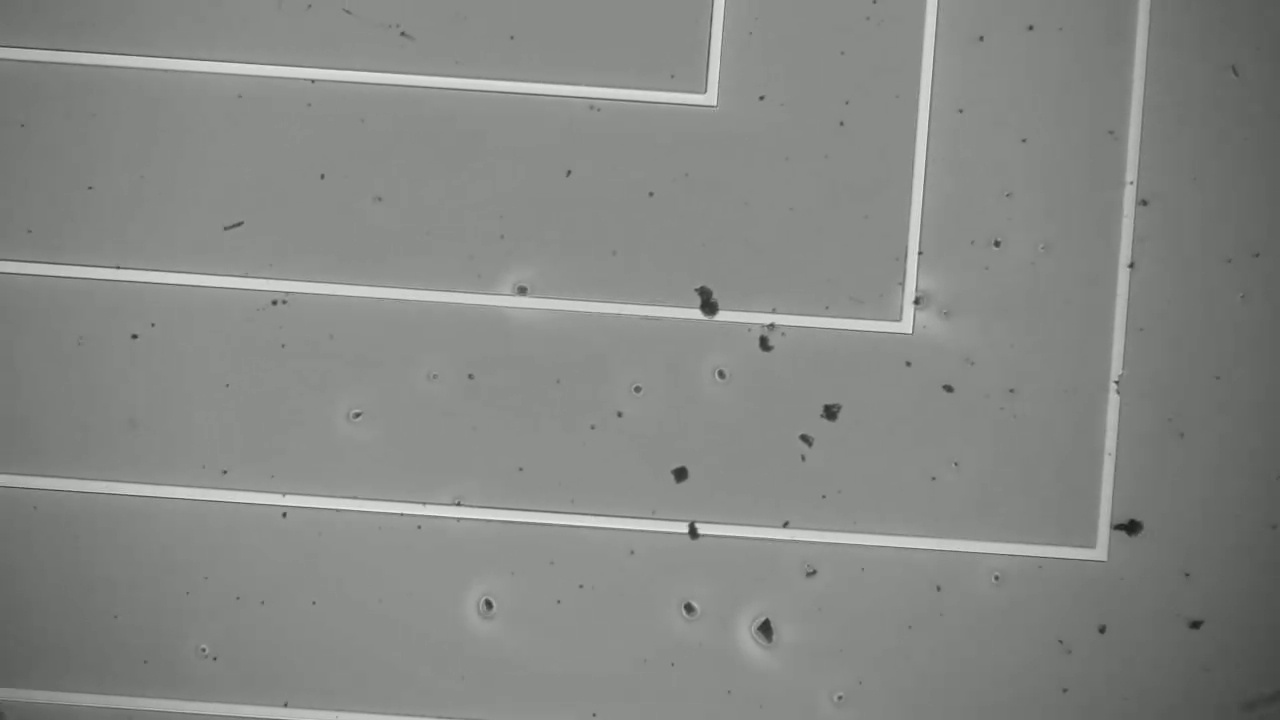edge_bite: (1094, 364, 1137, 405)
stains_enbedded: (685, 279, 722, 334), (678, 514, 708, 550)
